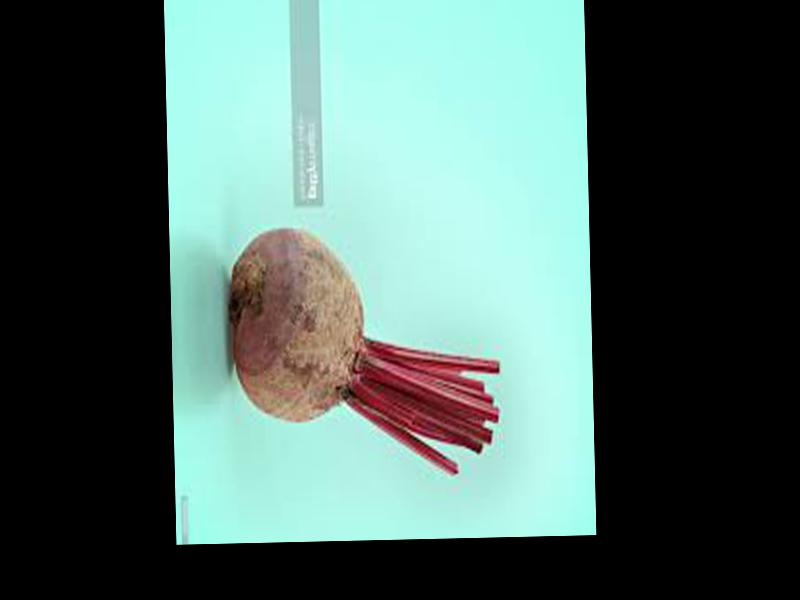Beet: (226, 223, 503, 478)
